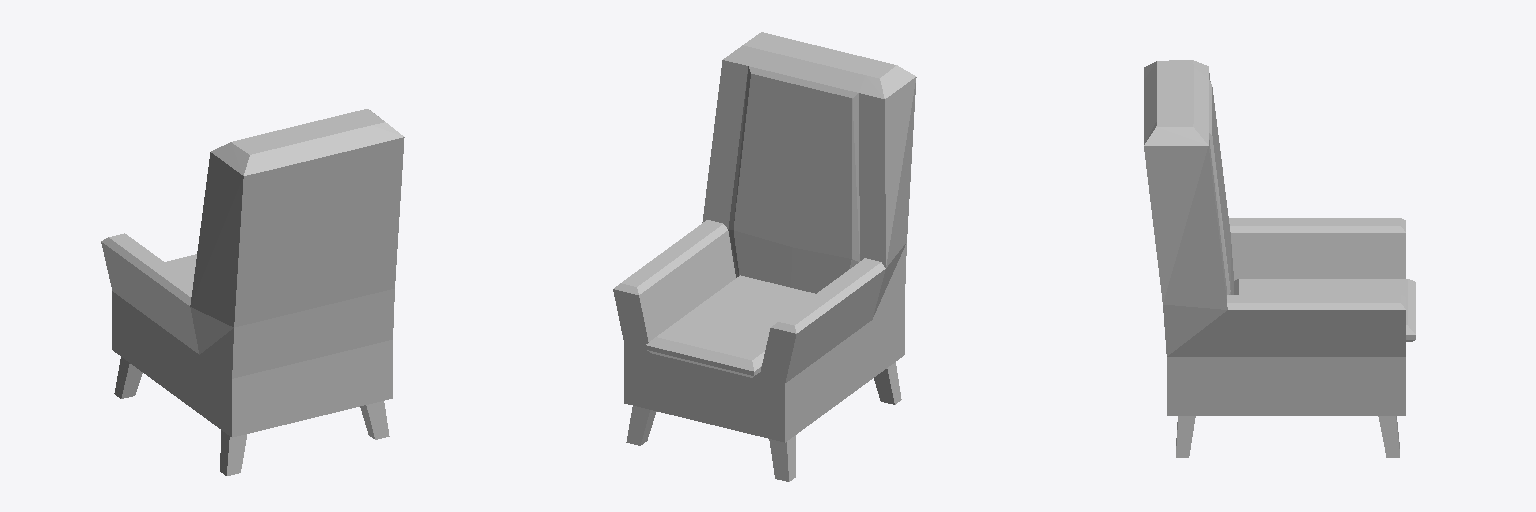
File: Low_Poly_Armchair.obj
The picture shows the model from 3 angles: view 1: azimuth 30°, elevation 25°; view 2: azimuth 150°, elevation 25°; view 3: azimuth 270°, elevation 25°; orthographic projection.
Visible parts, largest first — view 1: Low_Poly_Armchair; view 2: Low_Poly_Armchair; view 3: Low_Poly_Armchair.
Part boxes in pixels (x1,y1,x2,y2): Low_Poly_Armchair: (101,109,404,475); Low_Poly_Armchair: (613,32,916,481); Low_Poly_Armchair: (1144,60,1415,457).
Size of the model in its own units: 9.98 by 16.87 by 12.83.